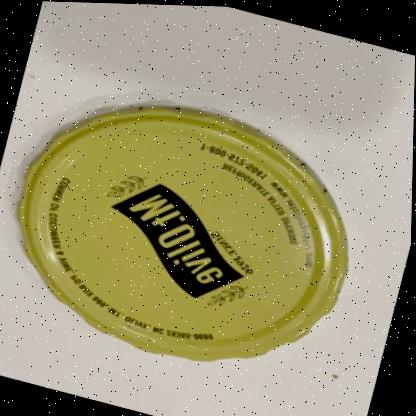Metal: (19, 104, 350, 359)
